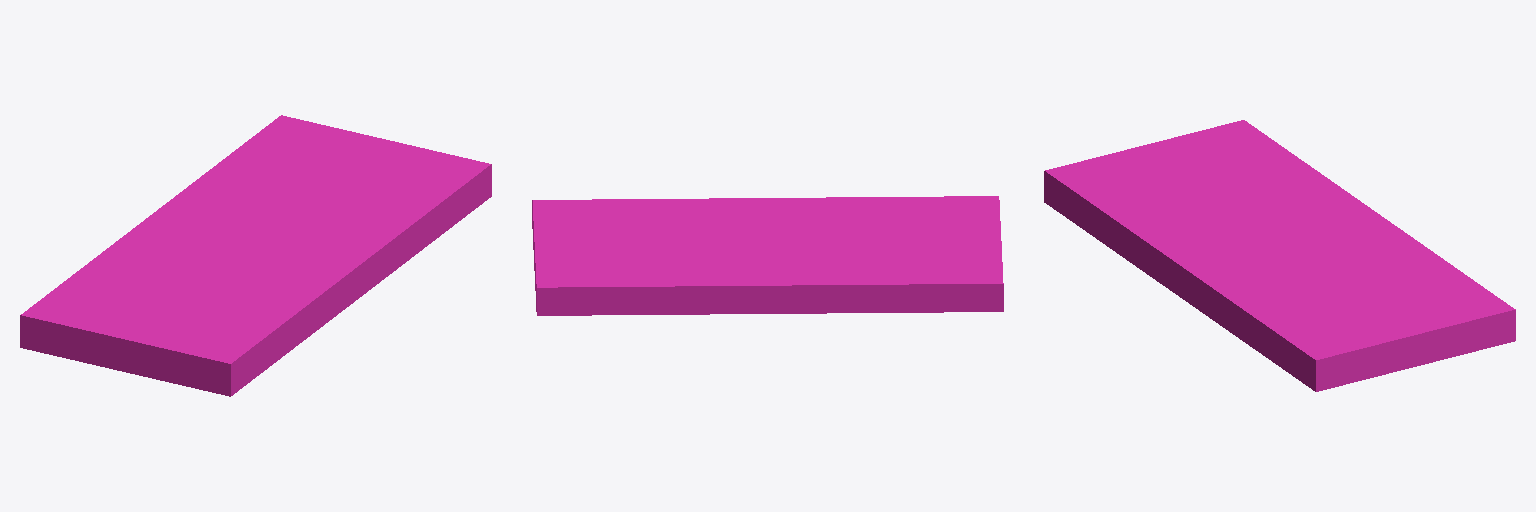
URDF robot description (Interference):
<?xml version="1.0"?>
<robot name="Interference">
  <link name="baseLink">
    <inertial>
      <origin xyz="0.0 0.0 0.0" rpy="0.0 0.0 0.0"/>
      <inertia ixx="0.0" ixy="0.0" ixz="0.0" iyy="0.0" iyz="0.0" izz="0.0"/>
      <mass value="0"/>
    </inertial>
    <visual>
      <origin xyz="0.0 0.0 0.0" rpy="0.0 0.0 0.5438116105810238"/>
      <geometry>
        <box size="0.1495574155903636 0.06645546725747728 0.01"/>
      </geometry>
      <material name="color">
        <color rgba="0.9229249823467757 0.2631631302258377 0.7518306287140857 1.0"/>
      </material>
    </visual>
  </link>
</robot>

--- What the picture shows (computed from the rendered views, not written in the file) ---
3 views of the same robot in one strip: view 1: azimuth 30°, elevation 25°; view 2: azimuth 150°, elevation 25°; view 3: azimuth 270°, elevation 25° (orthographic).
Model Interference with 1 links and 0 joints (none), rooted at baseLink, posed every joint at zero.
Visible links, largest first — view 1: baseLink; view 2: baseLink; view 3: baseLink.
Boxes of the visible links, <box> form: baseLink: <box>20,115,491,396</box>; baseLink: <box>532,196,1003,315</box>; baseLink: <box>1044,120,1515,391</box>.
Bounding box of the posed robot: 0.1624 × 0.1343 × 0.01 m (x, y, z).
Geometry: primitives only (box / cylinder / sphere), no mesh files.